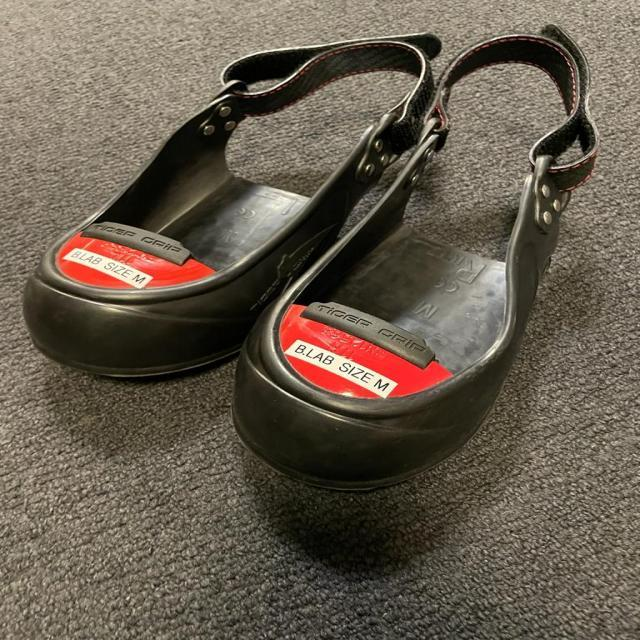shoes: (233, 25, 597, 475), (12, 18, 454, 388)
